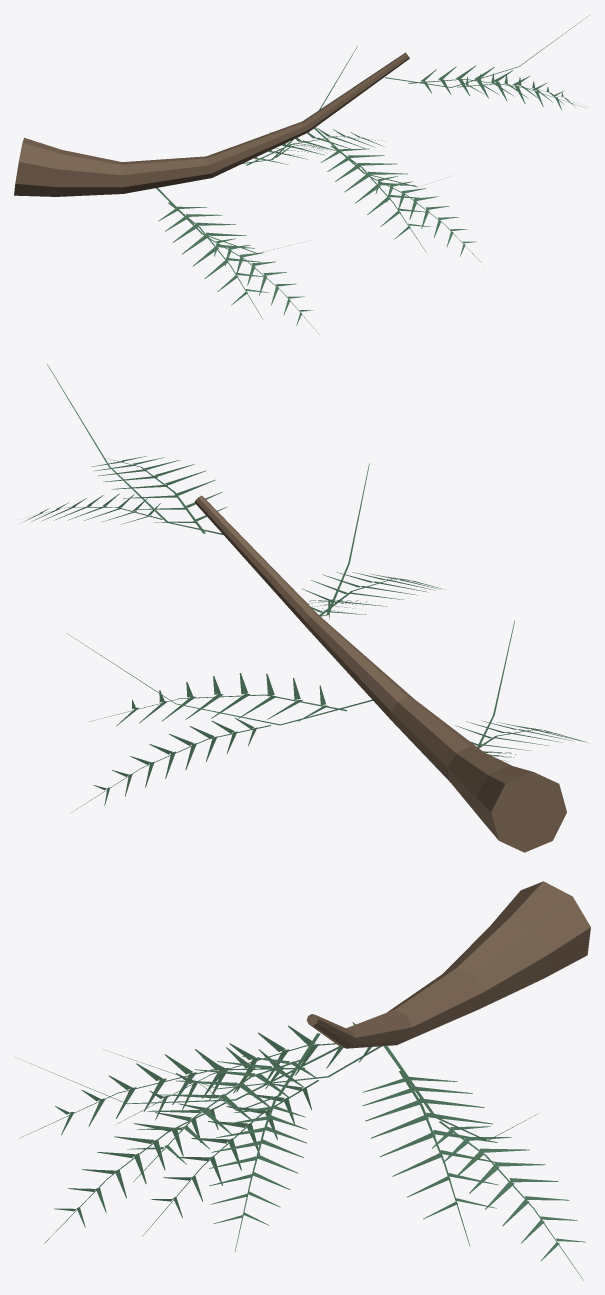
File: conifer-unit.glb
3 views of the same model, one above another, from view 1: azimuth 30°, elevation 25°; view 2: azimuth 150°, elevation 25°; view 3: azimuth 270°, elevation 25° (orthographic). The views are drawn at different scales.
Parts seen in each view (by area): view 1: Unchanged r12 wood excerpt, Original thin needle surfaces | b-feather; view 2: Unchanged r12 wood excerpt, Original thin needle surfaces | b-feather; view 3: Original thin needle surfaces | b-feather, Unchanged r12 wood excerpt.
Part boxes in pixels (x1,y1,x2,y2): Unchanged r12 wood excerpt: (14,52,409,196); Original thin needle surfaces | b-feather: (156,14,590,334); Unchanged r12 wood excerpt: (194,495,566,852); Original thin needle surfaces | b-feather: (20,364,588,812); Original thin needle surfaces | b-feather: (15,1022,585,1280); Unchanged r12 wood excerpt: (306,881,590,1048).
Size of the model in its own units: 1.33 by 0.6317 by 0.8731.
